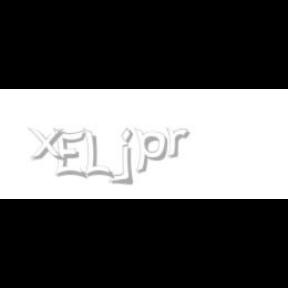E: (54, 128, 86, 180)
L: (83, 128, 111, 180)
j: (119, 128, 148, 186)
p: (134, 128, 172, 174)
r: (166, 128, 192, 158)
x: (28, 128, 70, 162)
